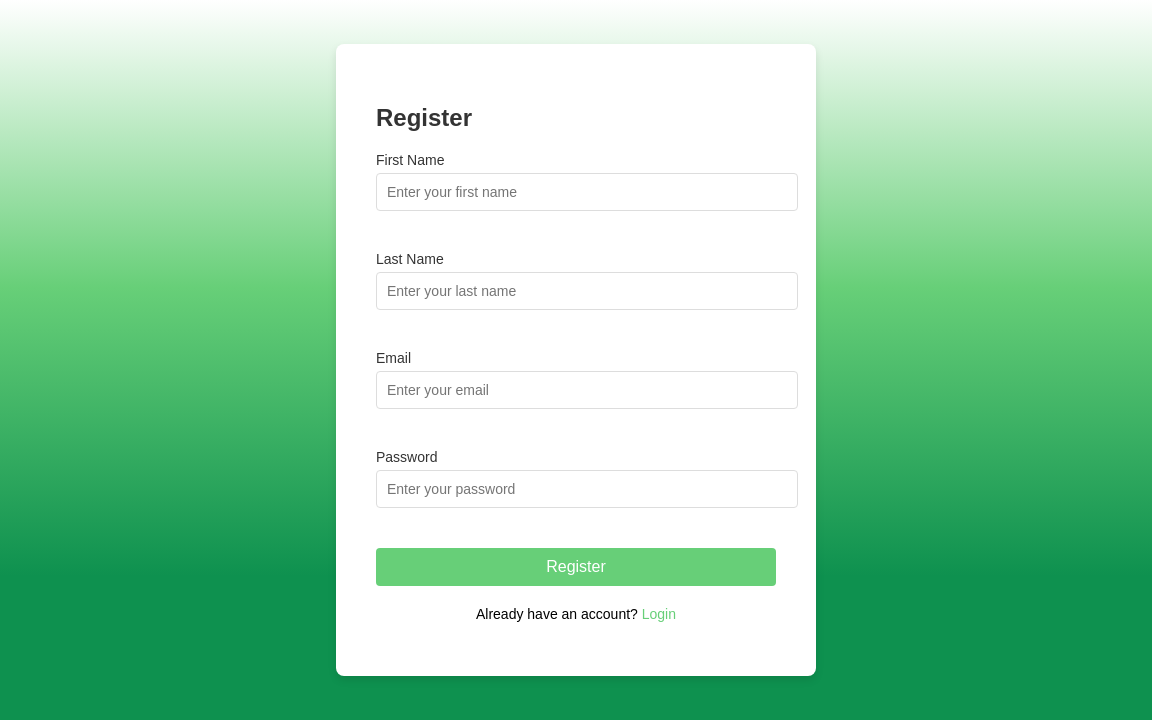
Scenario: Register Component › shows error when fields are empty and submit is clicked
Click the button "Register" at (576, 567), box [376,548,776,586]
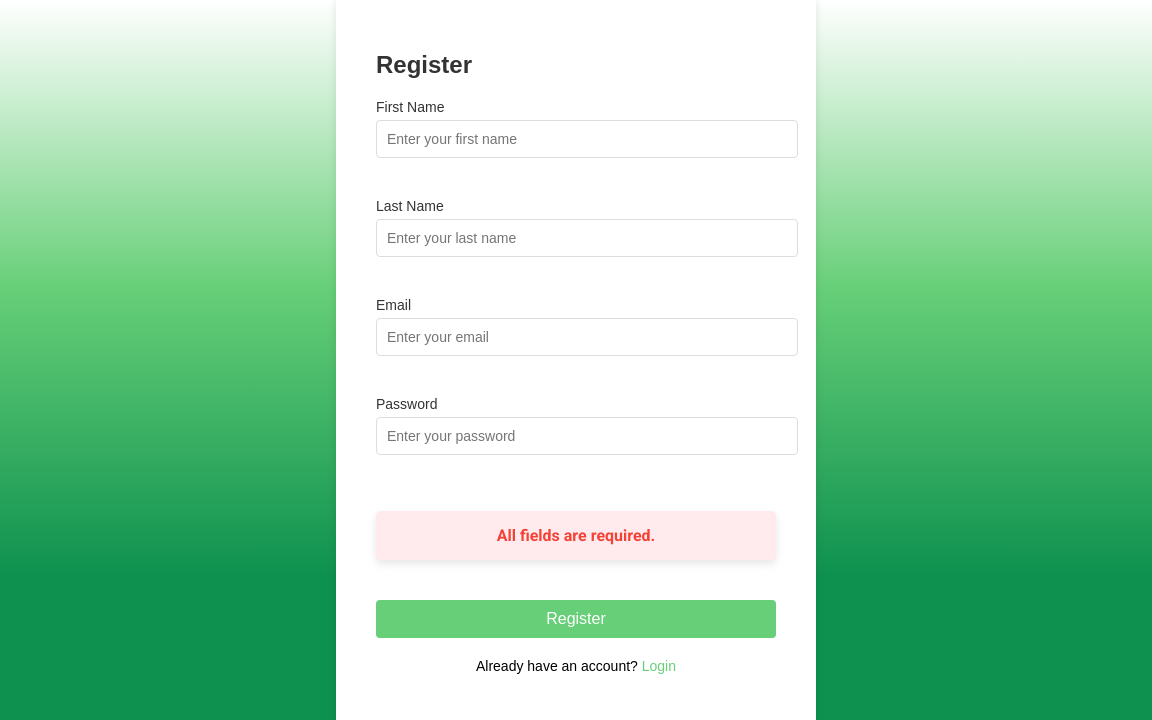
Check: the text "All fields are required." is shown, box [376,512,776,560]
